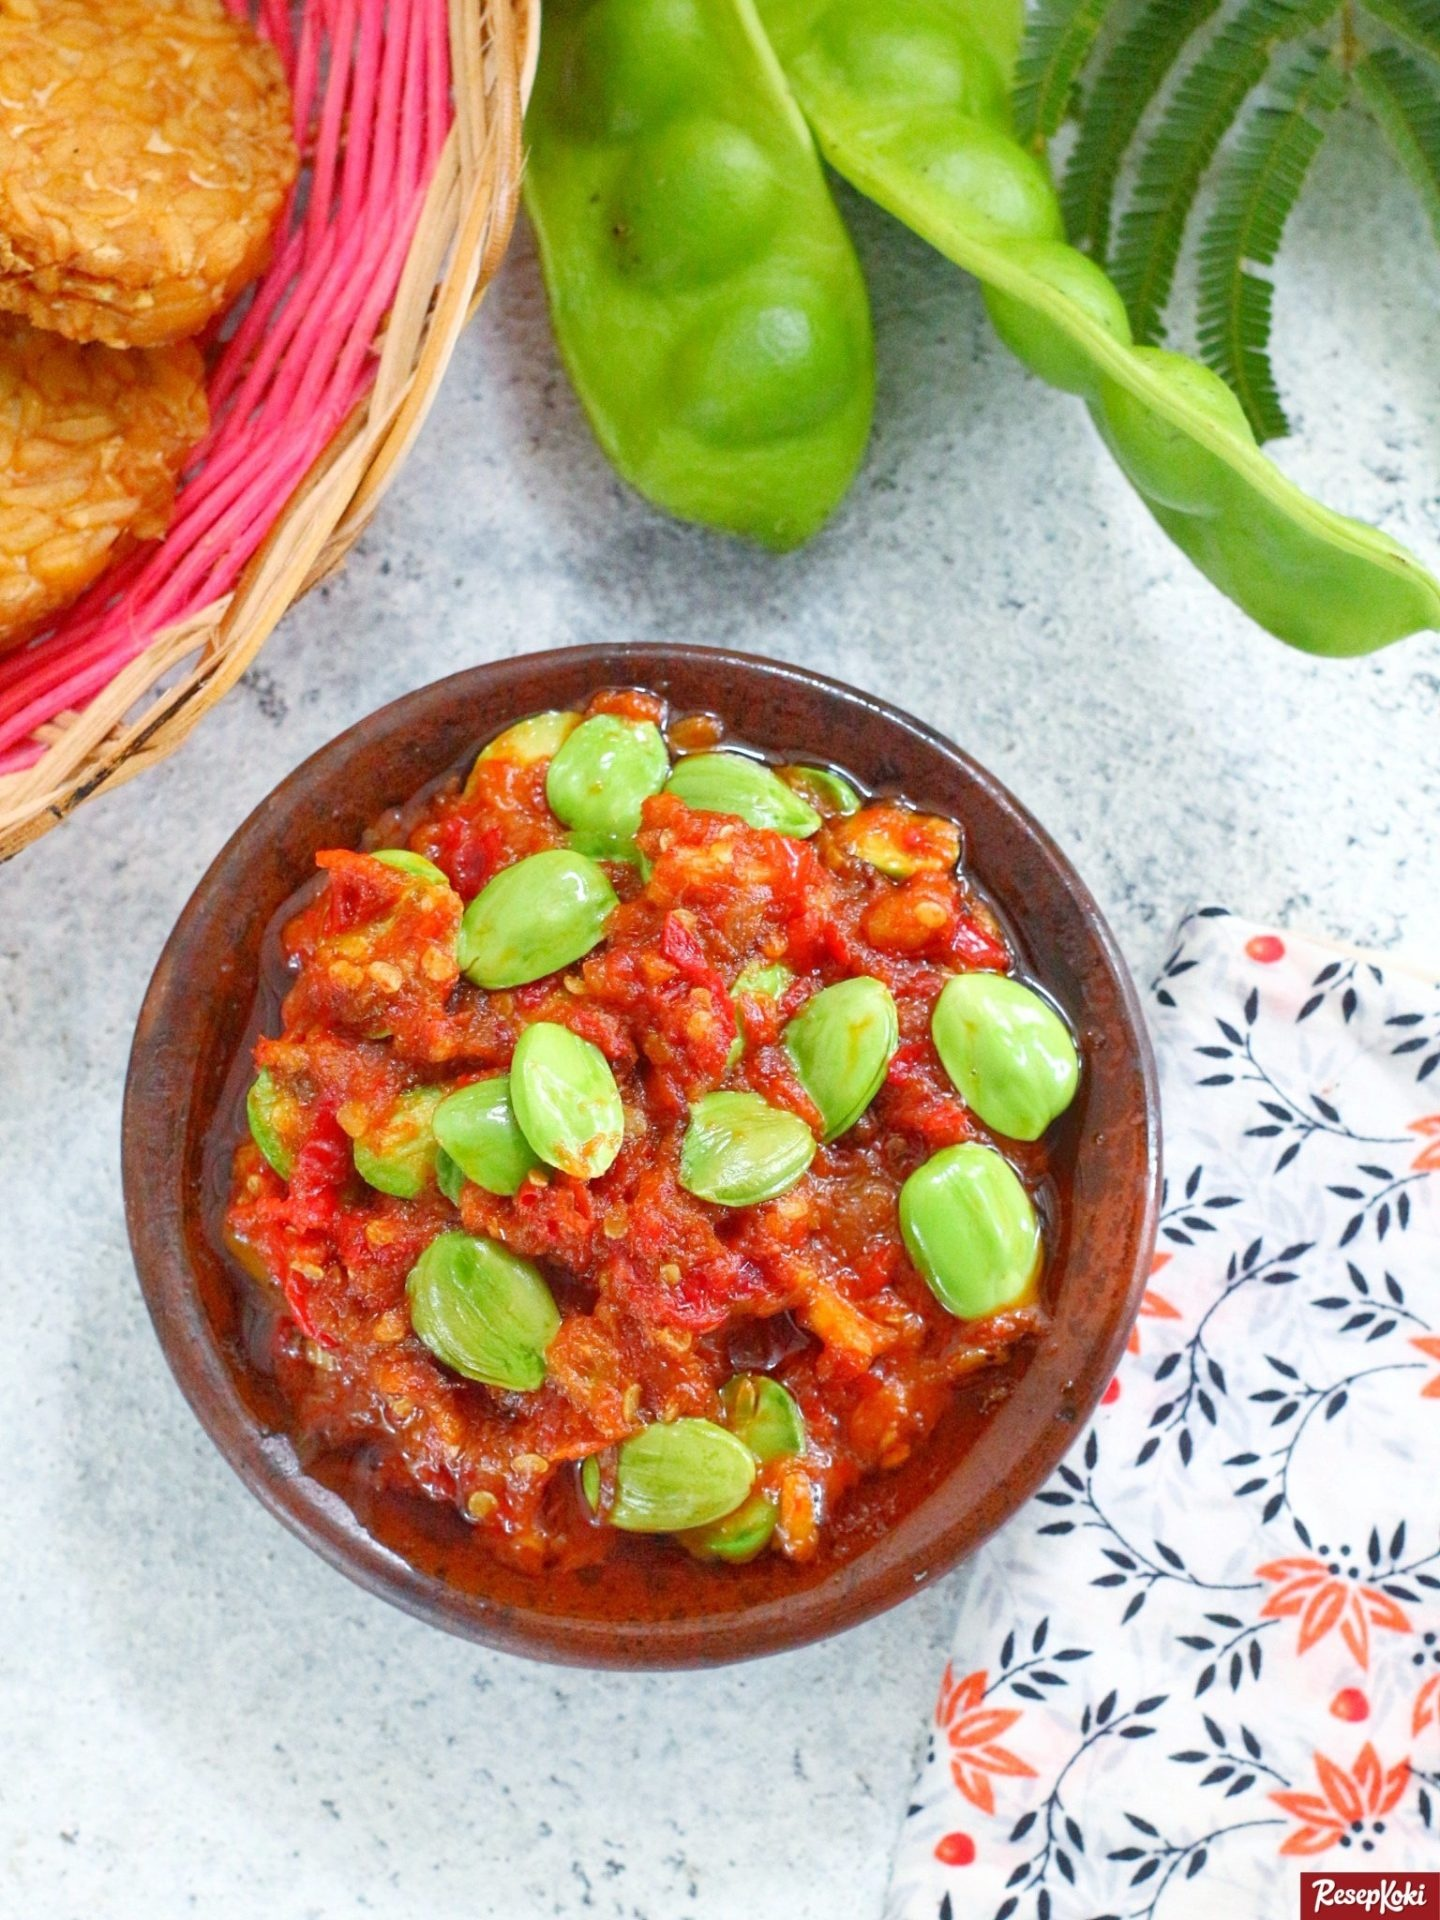sambal: (213, 688, 1069, 1584)
